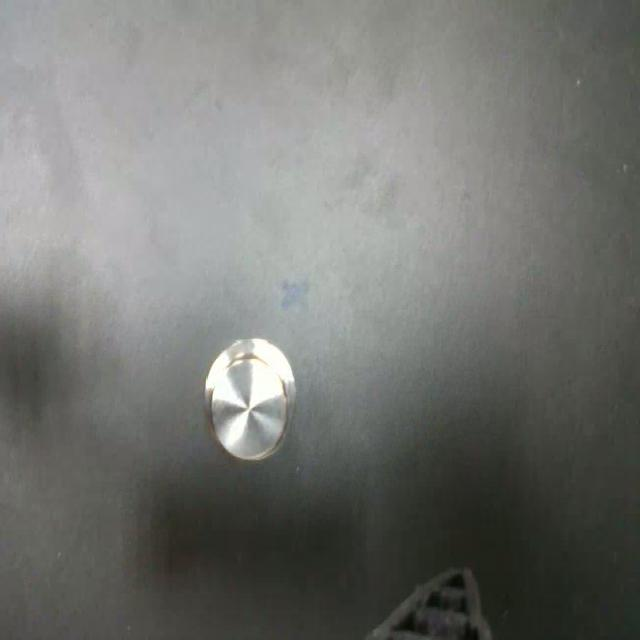sensor: (204, 336, 298, 462)
